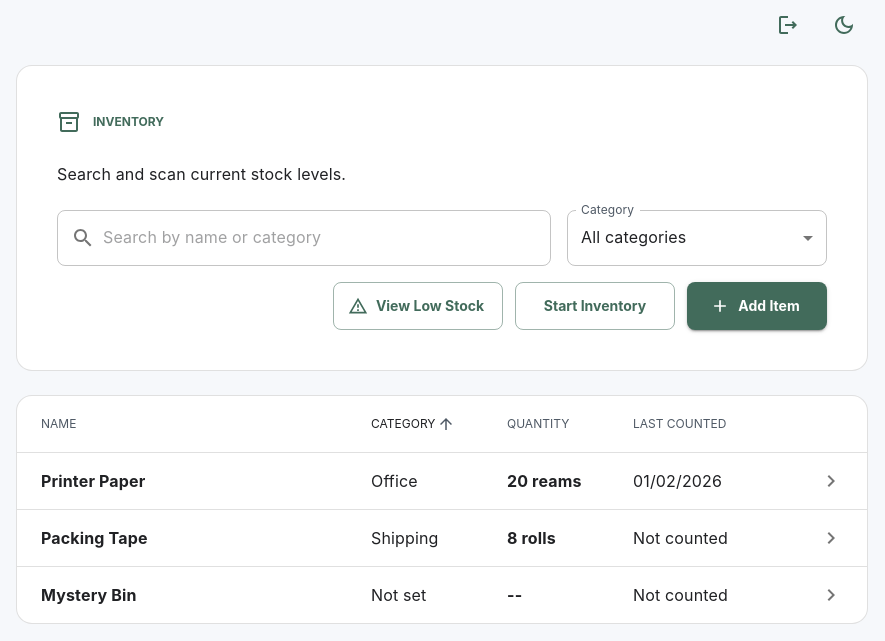
Test: HomePage › shows a no-results state when search has no matches
Expected: the text "Printer Paper" is shown, [41,471,145,491]
Type "warehouse" into the field named "Search inventory" at {"x": 327, "y": 238}, box [103,210,551,266]
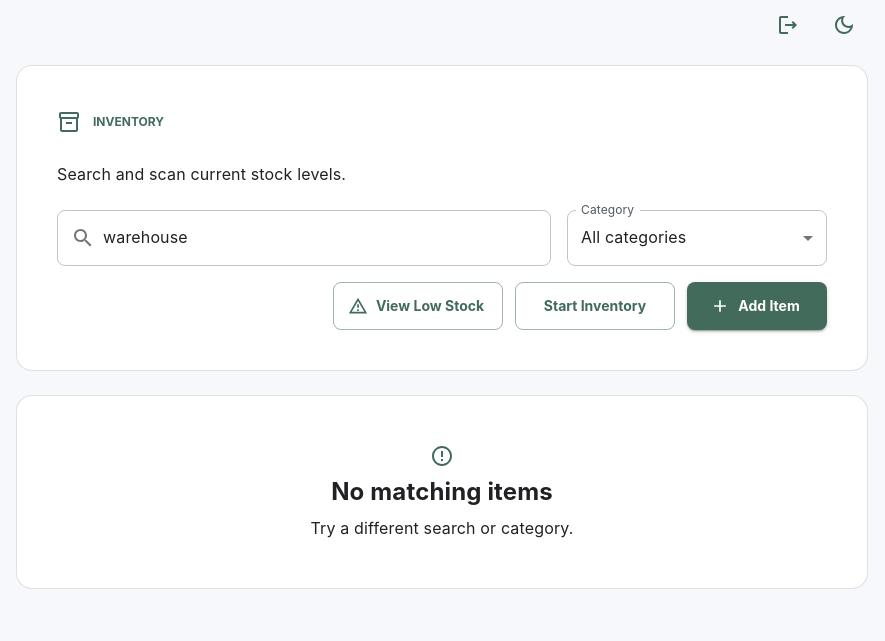
Result: the heading "No matching items" is shown at [331,476,553,508]
Result: the link "Printer Paper" is gone
